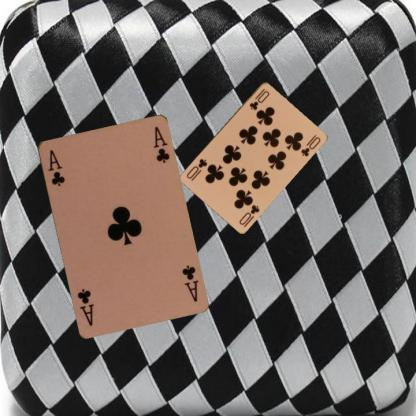10c: (236, 202, 261, 226), (247, 86, 270, 112)
Ac: (179, 262, 200, 303), (45, 147, 66, 187)
